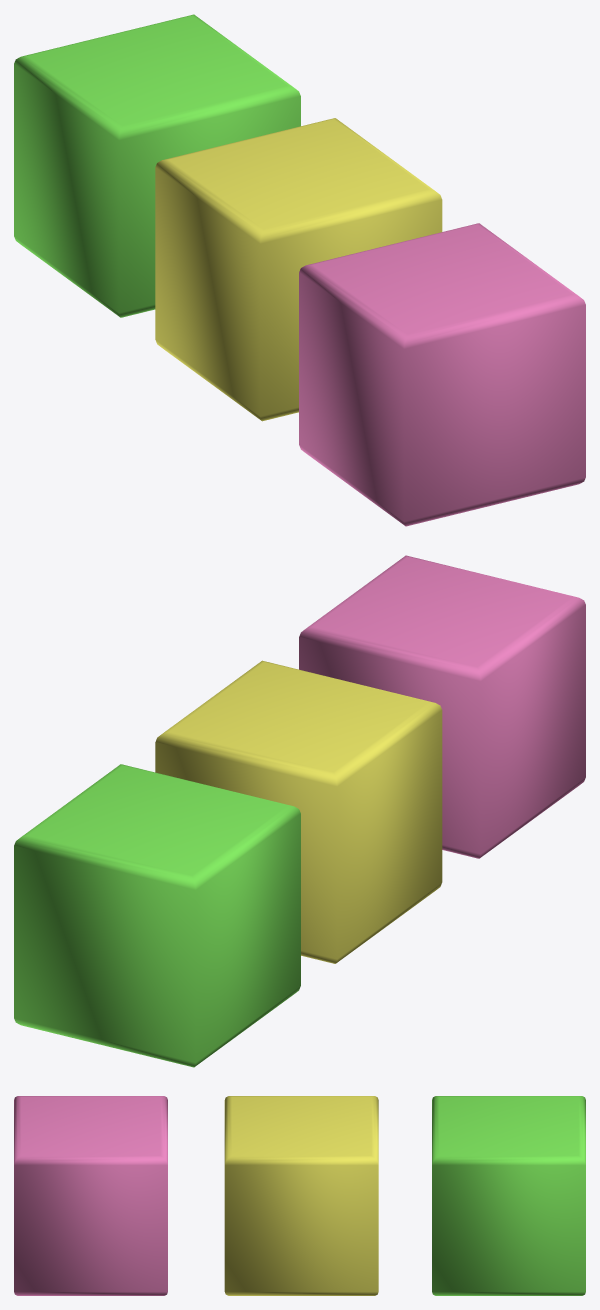
Rendered from LOKUMS.glb.
The picture shows the model from 3 angles, top to bottom: view 1: azimuth 30°, elevation 25°; view 2: azimuth 150°, elevation 25°; view 3: azimuth 270°, elevation 25°; orthographic projection. The views are drawn at different scales.
Visible parts, largest first — view 1: Cube, Cube.001, Cube.002; view 2: Cube.002, Cube, Cube.001; view 3: Cube.001, Cube, Cube.002.
Boxes of the visible parts, <box> form: Cube: <box>299,223,585,526</box>; Cube.001: <box>155,118,442,421</box>; Cube.002: <box>14,14,300,317</box>; Cube.002: <box>14,764,300,1067</box>; Cube: <box>299,555,585,858</box>; Cube.001: <box>155,660,442,963</box>; Cube.001: <box>224,1096,378,1295</box>; Cube: <box>14,1096,167,1295</box>; Cube.002: <box>432,1096,585,1295</box>.
Size of the model in its own units: 2 by 2 by 7.43.
